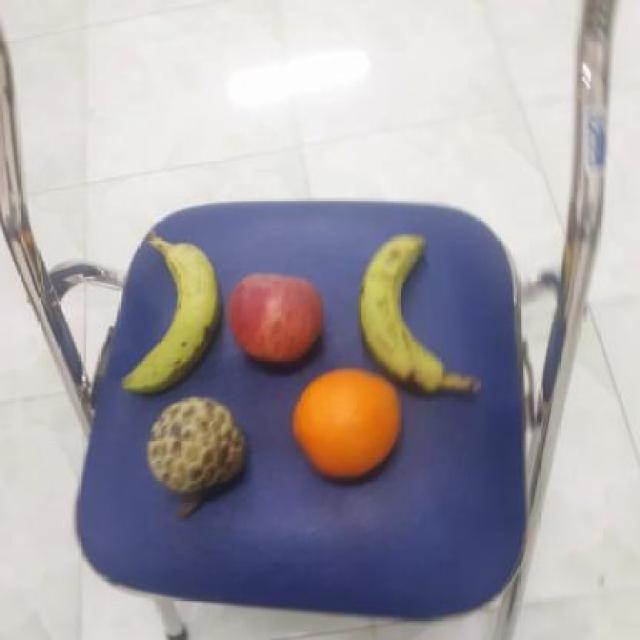apple: (226, 270, 328, 364)
banana: (114, 238, 223, 398), (352, 227, 457, 393)
oren: (289, 366, 403, 479)
sugar apple: (143, 394, 248, 494)
